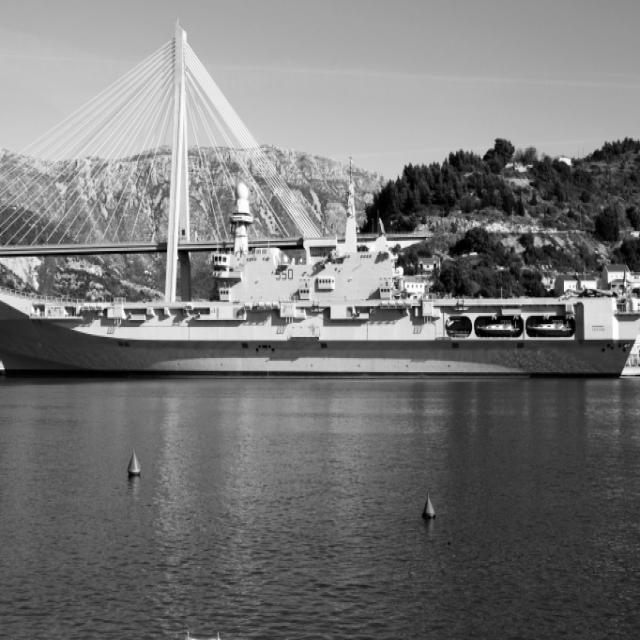Portanaves: (1, 154, 640, 385)
